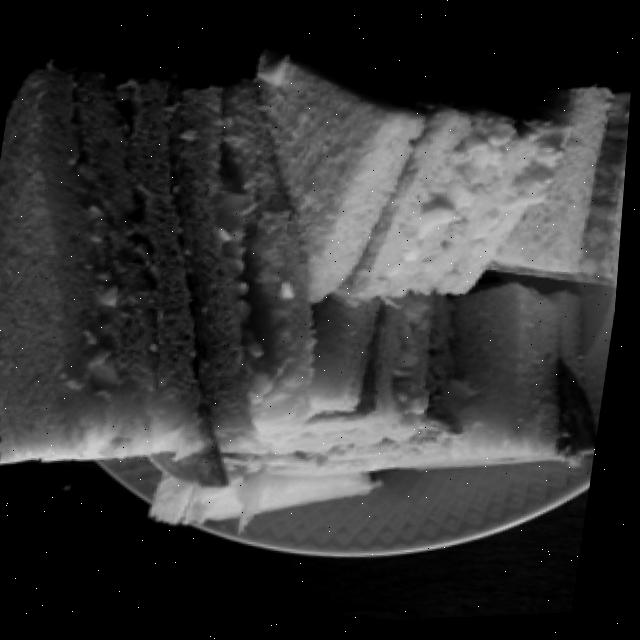三明治: (0, 30, 637, 567)
